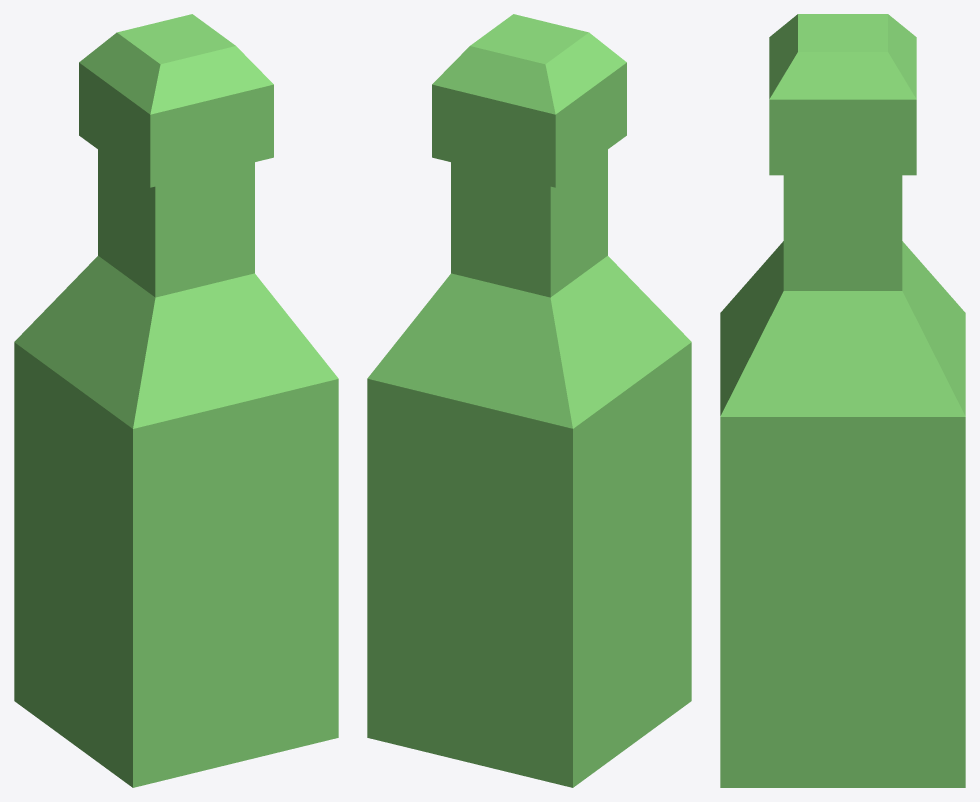
File: bottle2.obj
3 views of the same model, side by side, from view 1: azimuth 30°, elevation 25°; view 2: azimuth 150°, elevation 25°; view 3: azimuth 270°, elevation 25° (orthographic). The views are drawn at different scales.
Parts seen in each view (by area): view 1: Bottle_wine_Material.001; view 2: Bottle_wine_Material.001; view 3: Bottle_wine_Material.001.
Part boxes in pixels (x1,y1,x2,y2): Bottle_wine_Material.001: (14,14,338,787); Bottle_wine_Material.001: (367,14,691,787); Bottle_wine_Material.001: (720,14,965,787).
Size of the model in its own units: 0.6 by 1.89 by 0.6.
